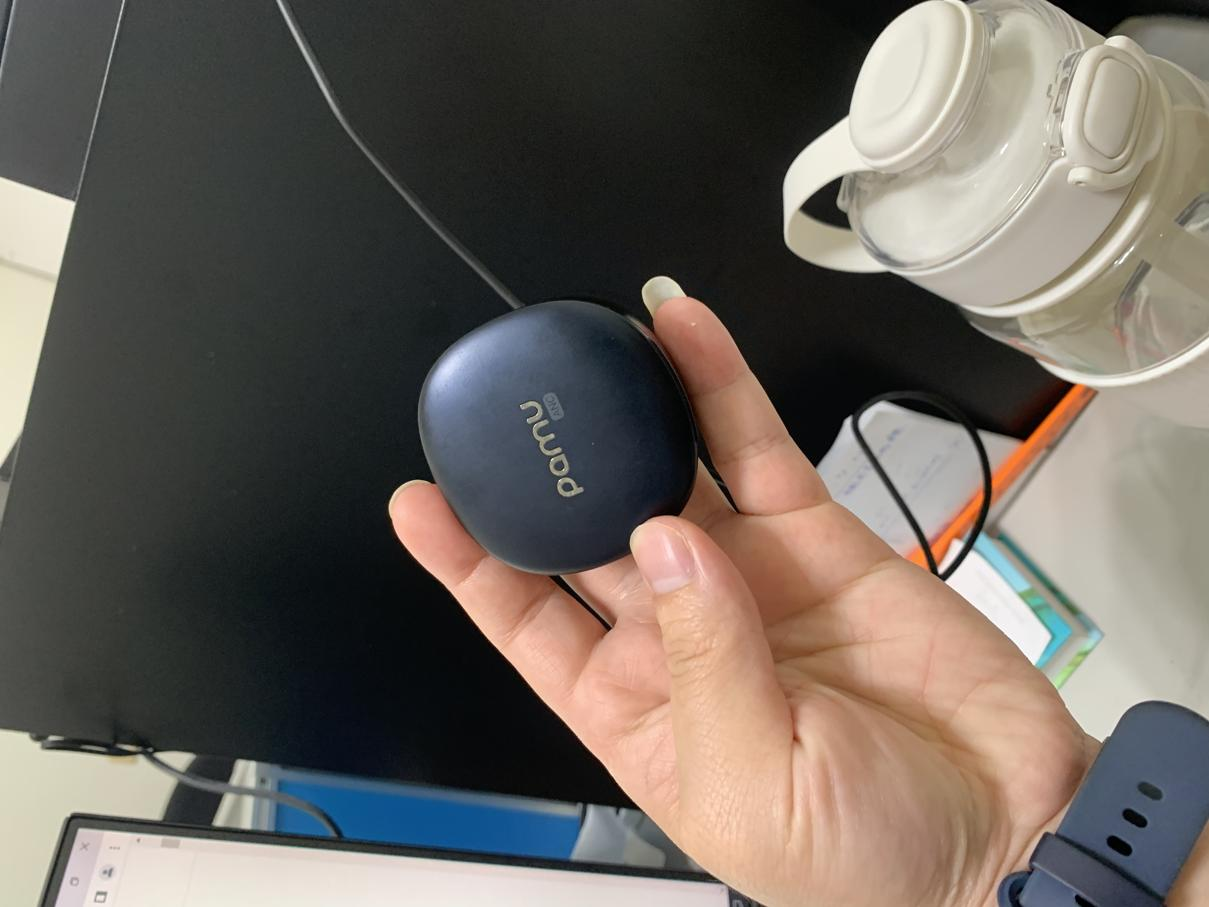pami: (408, 278, 704, 582)
